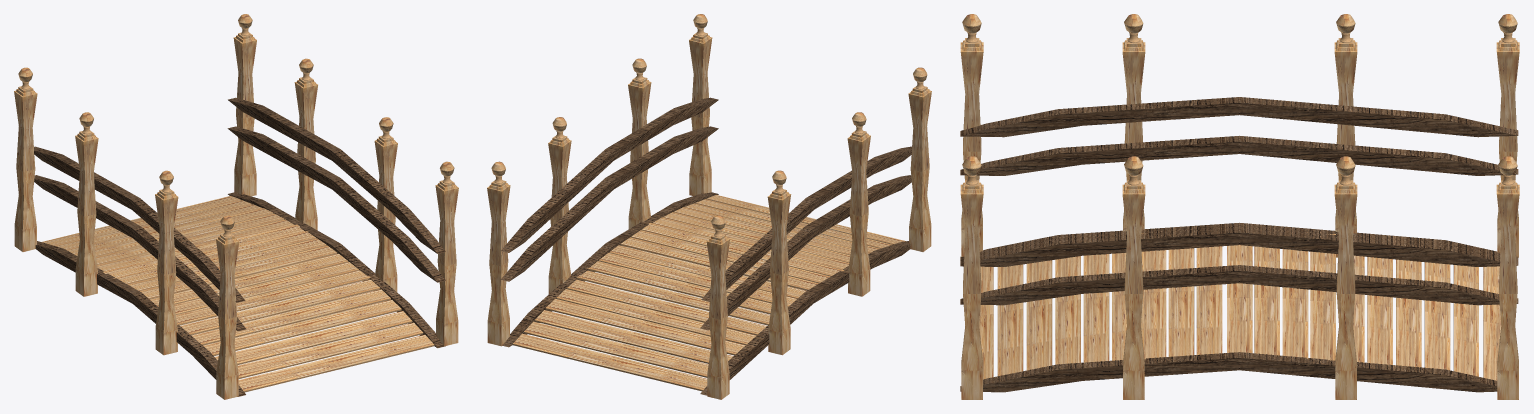
Rendered from smallBridge.fbx.
3 views of the same model, side by side, from view 1: azimuth 30°, elevation 25°; view 2: azimuth 150°, elevation 25°; view 3: azimuth 270°, elevation 25° (orthographic). The views are drawn at different scales.
Visible parts, largest first — view 1: handvat4, handvat3, paal_2, paal_3, paal_8, paal, paal_5, handvat1, paal_4, handvat2, plank_9, plank_8 (+21 smaller); view 2: handvat3, handvat4, paal, paal_8, paal_2, paal_3, paal_4, handvat1, handvat2, paal_5, plank_18, steun1 (+21 smaller); view 3: handvat1, handvat2, handvat3, handvat4, steun2, paal_6, paal_5, paal_7, paal_4, paal_8, paal_2, plank_8 (+21 smaller).
Part boxes in pixels (<box>): handvat4: <box>227,126,445,282</box>; handvat3: <box>228,97,445,253</box>; paal_2: <box>216,215,239,399</box>; paal_3: <box>75,112,98,296</box>; paal_8: <box>14,67,37,251</box>; paal: <box>155,170,178,355</box>; paal_5: <box>435,161,458,345</box>; handvat1: <box>34,146,245,302</box>; paal_4: <box>233,14,256,196</box>; handvat2: <box>34,175,246,331</box>; plank_9: <box>238,334,434,392</box>; plank_8: <box>237,322,423,378</box>; handvat3: <box>501,97,718,252</box>; handvat4: <box>501,126,718,281</box>; paal: <box>847,112,870,296</box>; paal_8: <box>706,215,729,399</box>; paal_2: <box>908,67,931,251</box>; paal_3: <box>767,170,791,355</box>; paal_4: <box>487,161,510,346</box>; handvat1: <box>701,146,911,301</box>; handvat2: <box>700,175,911,330</box>; paal_5: <box>689,14,712,195</box>; plank_18: <box>512,333,707,391</box>; steun1: <box>700,241,910,395</box>; handvat1: <box>960,97,1518,137</box>; handvat2: <box>960,135,1518,175</box>; handvat3: <box>960,227,1518,266</box>; handvat4: <box>960,265,1518,305</box>; steun2: <box>960,352,1497,392</box>; paal_6: <box>1122,156,1145,399</box>; paal_5: <box>960,156,983,399</box>; paal_7: <box>1334,156,1357,399</box>; paal_4: <box>1496,156,1519,399</box>; paal_8: <box>1496,14,1519,257</box>; paal_2: <box>960,14,983,256</box>; plank_8: <box>997,264,1023,376</box>.
Size of the model in its own units: 276 by 202 by 429.
Materials: 2 (2 with a texture image).
